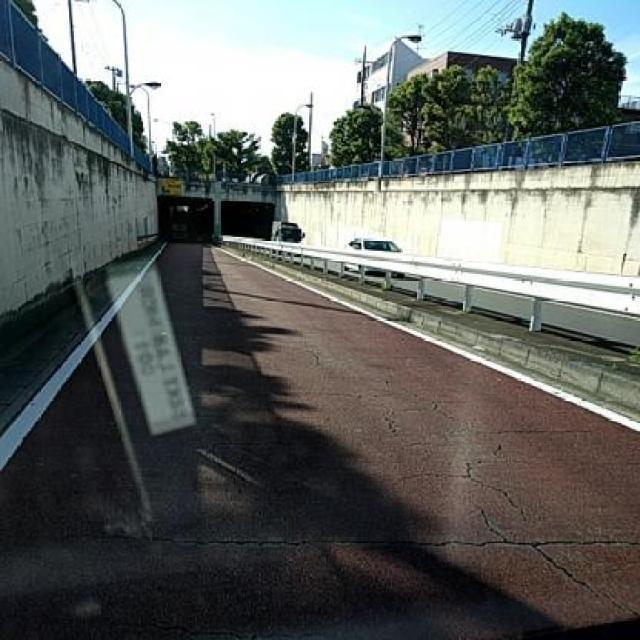Guard rail: (220, 233, 640, 358)
